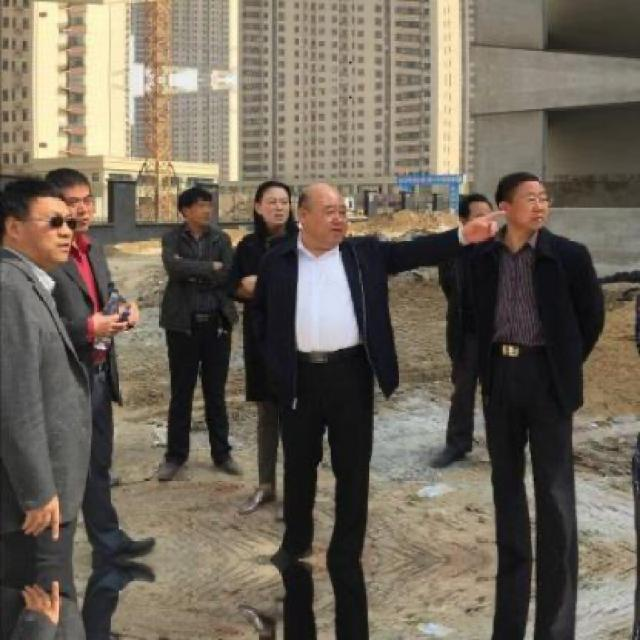sin casco: (280, 174, 388, 261), (0, 178, 78, 298), (46, 187, 151, 263), (231, 162, 316, 246), (491, 174, 578, 248), (162, 166, 236, 230)
